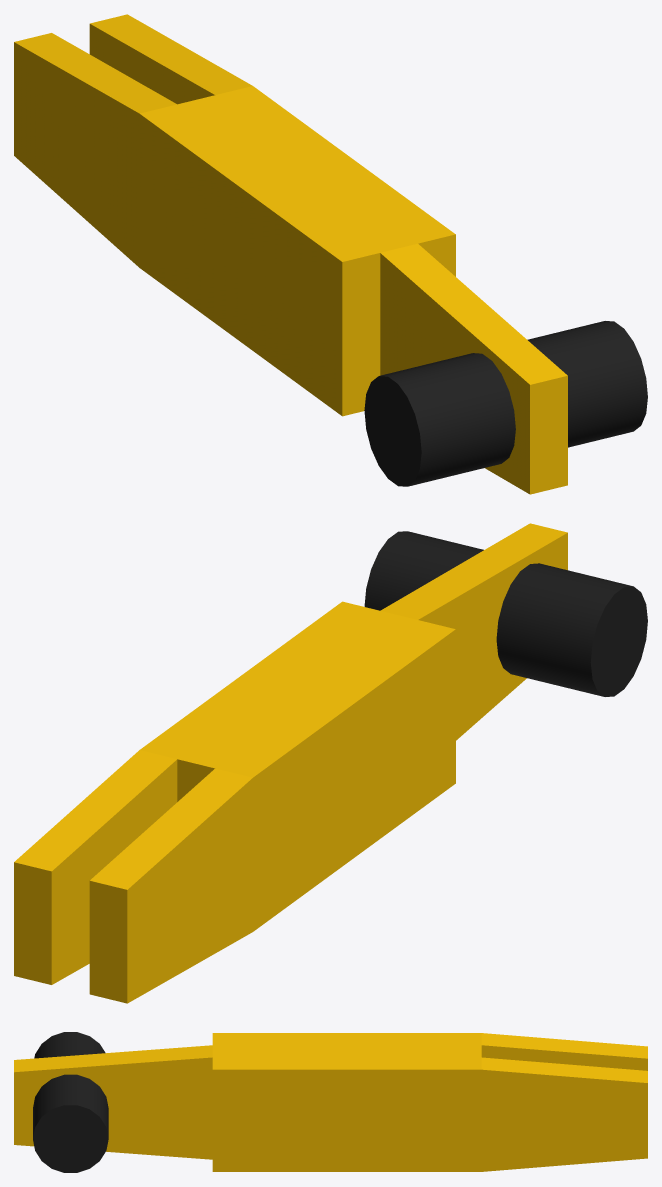
The model's file is antebrazo.dae.
The picture shows the model from 3 angles, top to bottom: view 1: azimuth 30°, elevation 25°; view 2: azimuth 150°, elevation 25°; view 3: azimuth 270°, elevation 25°; orthographic projection. The views are drawn at different scales.
Parts seen in each view (by area): view 1: antebrazo; view 2: antebrazo; view 3: antebrazo.
Boxes of the visible parts, bbox=[...] form: antebrazo: bbox=[14, 14, 647, 494]; antebrazo: bbox=[14, 523, 647, 1003]; antebrazo: bbox=[14, 1032, 647, 1172].
Bounding box in the file's own units: 19.95 × 13 × 73.03.
